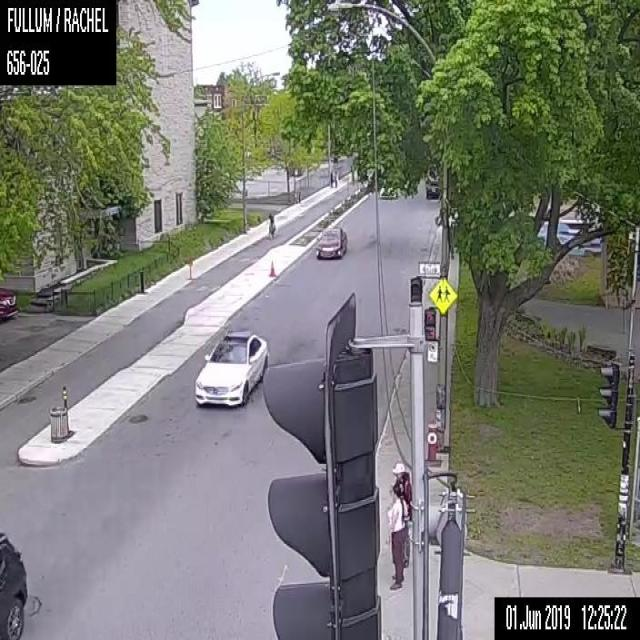construction: (268, 259, 275, 276)
cyclist: (268, 212, 275, 238)
pedestrian: (391, 459, 411, 566), (387, 484, 407, 589), (333, 169, 338, 186), (329, 169, 333, 186)
vehicle: (194, 328, 268, 408), (0, 530, 27, 638), (314, 224, 347, 259), (0, 287, 16, 321), (425, 178, 439, 198), (378, 185, 396, 198)
